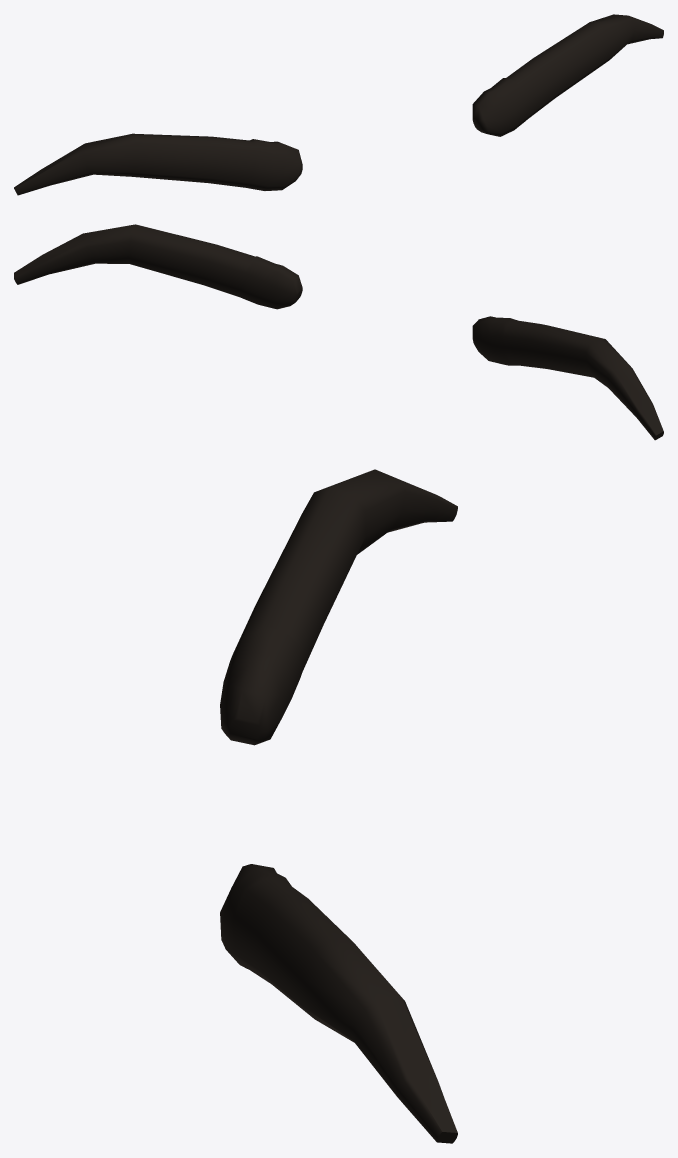
Rendered from Eyebrows_15_01.fbx.
3 renders of one model, top to bottom at view 1: azimuth 30°, elevation 25°; view 2: azimuth 150°, elevation 25°; view 3: azimuth 270°, elevation 25°, orthographic. The views are drawn at different scales.
Parts seen in each view (by area): view 1: Eyebrows_15_01; view 2: Eyebrows_15_01; view 3: Eyebrows_15_01.
Part boxes in pixels (x1,y1,x2,y2): Eyebrows_15_01: (14, 14, 663, 195); Eyebrows_15_01: (14, 224, 663, 440); Eyebrows_15_01: (220, 469, 457, 1143).
Size of the model in its own units: 19.15 by 1.93 by 3.04.
